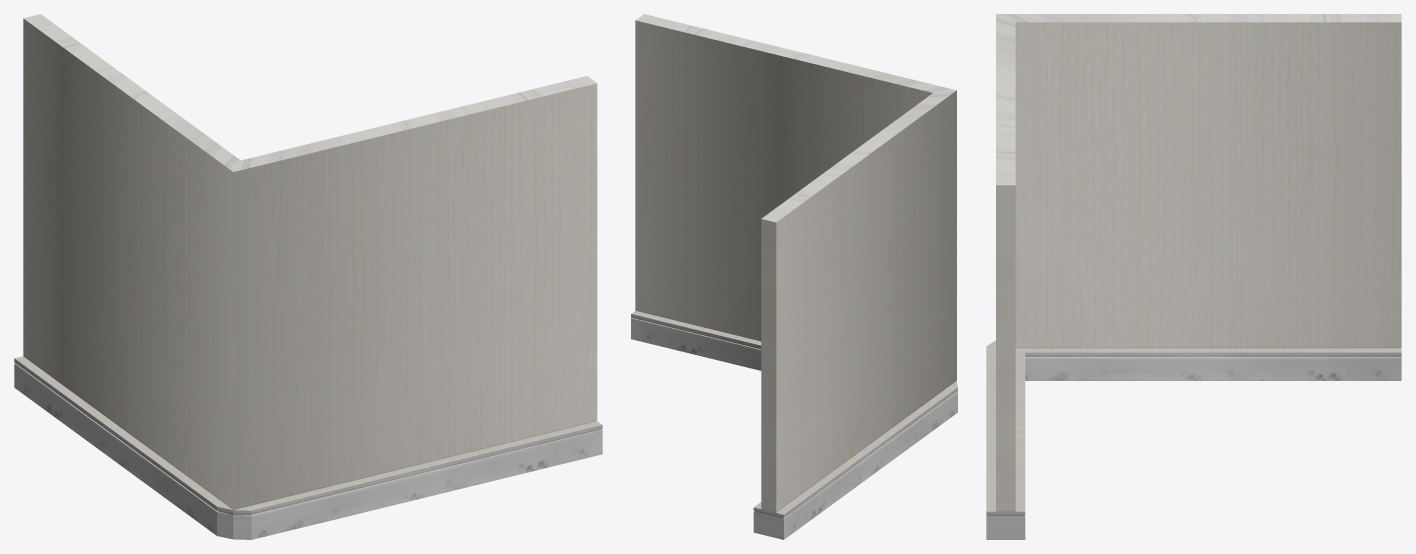
The model's file is WallInnerCorner_SM.FBX.
The picture shows the model from 3 angles, left to right: view 1: azimuth 30°, elevation 25°; view 2: azimuth 150°, elevation 25°; view 3: azimuth 270°, elevation 25°; orthographic projection. The views are drawn at different scales.
Visible parts, largest first — view 1: ModularWallInnerCorner; view 2: ModularWallInnerCorner; view 3: ModularWallInnerCorner.
Boxes of the visible parts, x1,y1,x2,y2 form: ModularWallInnerCorner: (14, 14, 602, 539); ModularWallInnerCorner: (631, 14, 957, 539); ModularWallInnerCorner: (986, 14, 1401, 539).
Size of the model in its own units: 425 by 425 by 400.
1 material, 1 textured.
